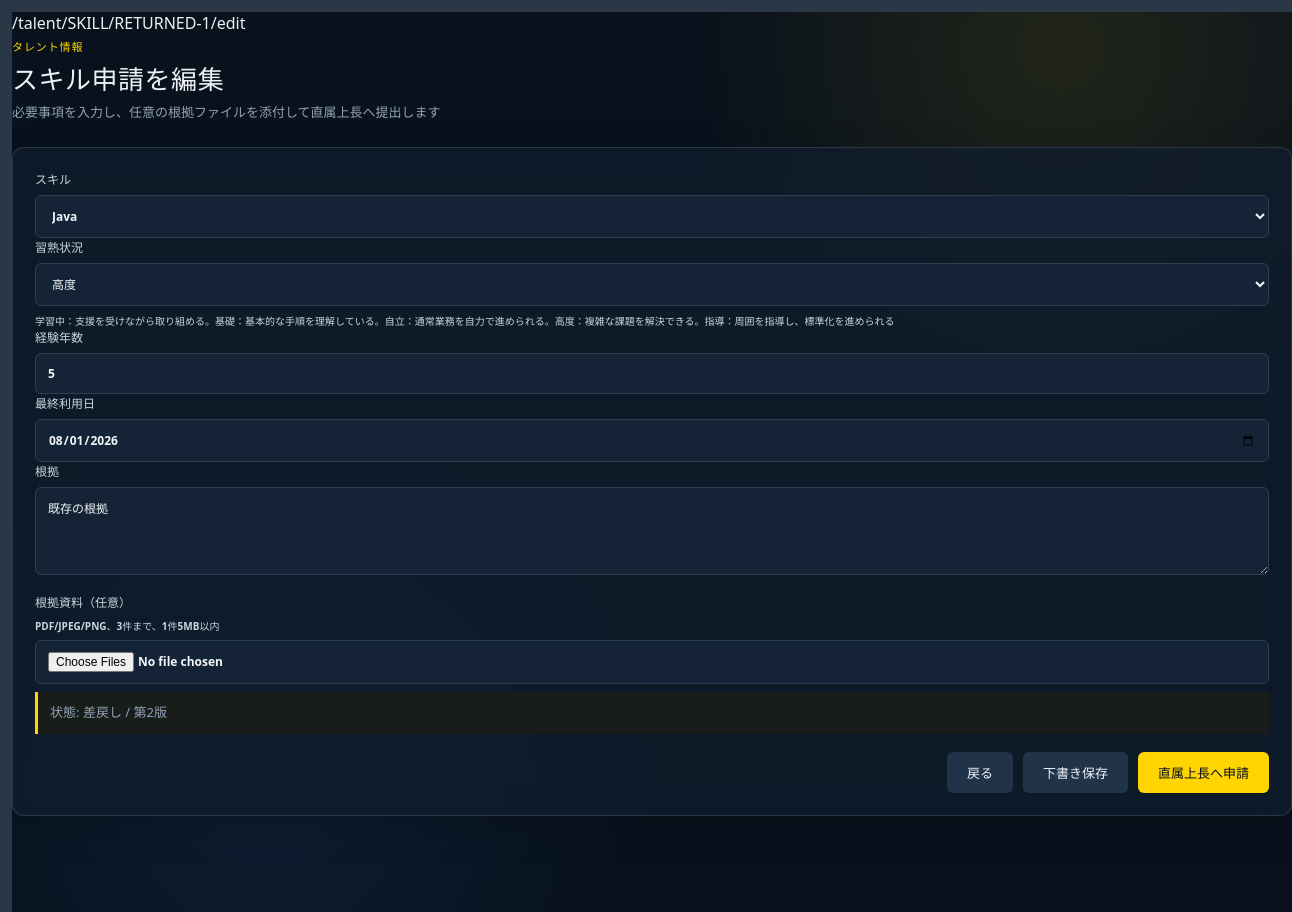
it: TalentSubmissionFormPage › 差戻し申請は既存publicIdを更新し返された同一chainの新revisionを提出する
The image size is (1292, 912).
Expected: the text box showing "既存の根拠" is shown, [35, 487, 1269, 575]
Expected: the text "状態: 差戻し / 第2版" is shown, [35, 692, 1269, 734]
Click the button "直属上長へ申請".
click(1204, 772)  # box [1138, 752, 1269, 793]
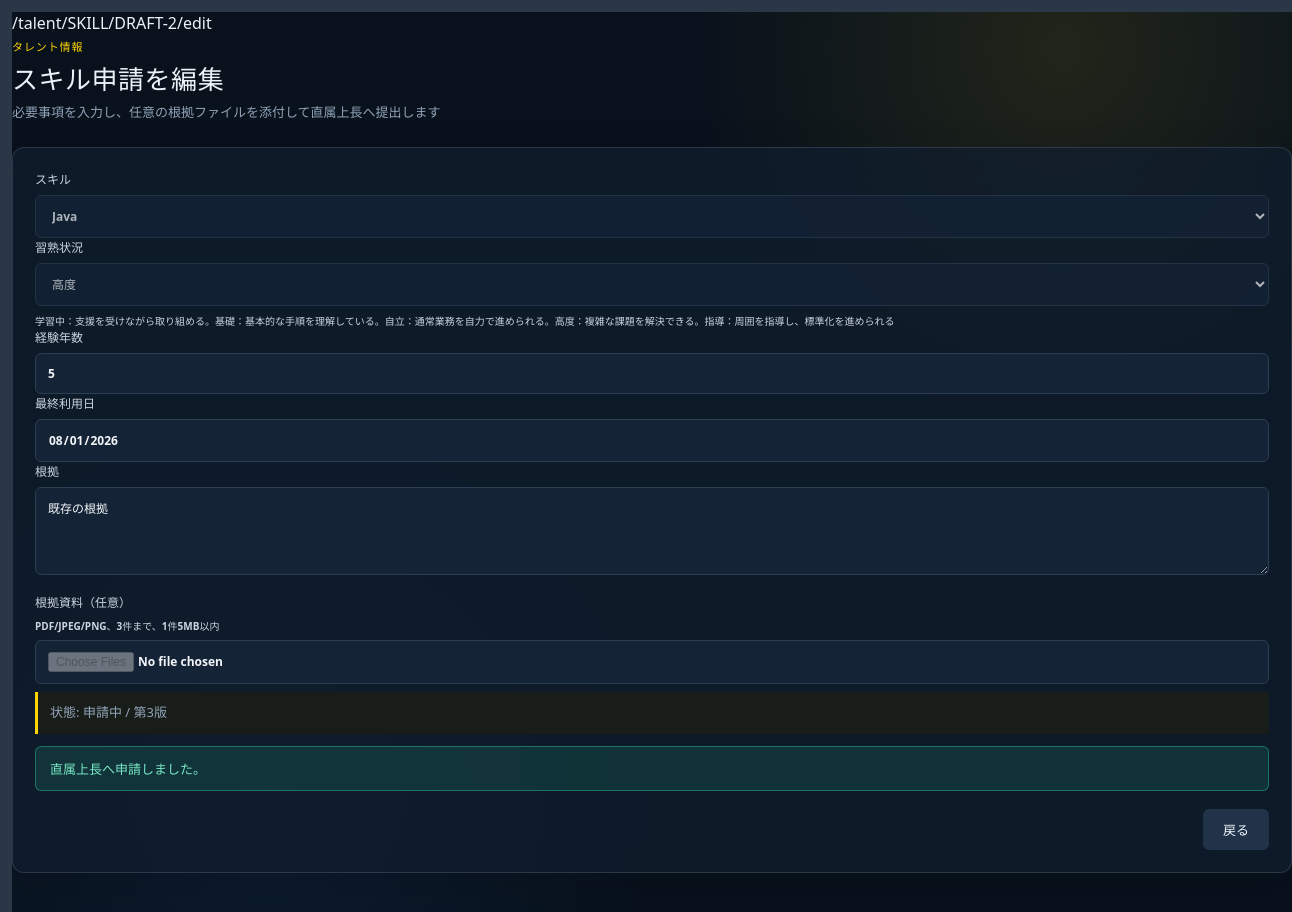
Now the message shows "直属上長へ申請しました", box [50, 760, 206, 778]
Now the text "状態: 申請中 / 第3版" is shown, box [35, 692, 1269, 734]
